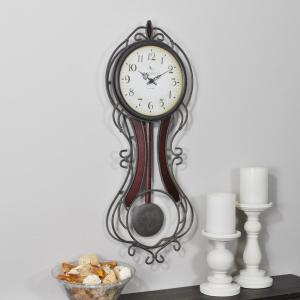clock: (119, 44, 184, 117)
